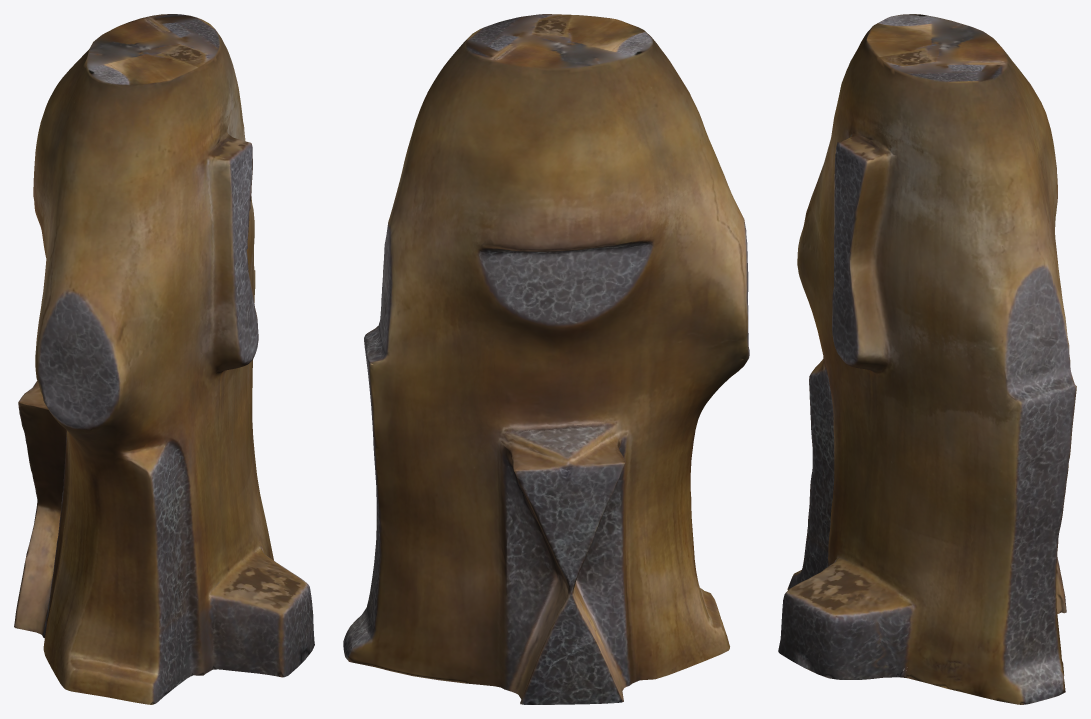
The model's file is shah-tirthankar.glb.
3 renders of one model, left to right at view 1: azimuth 30°, elevation 25°; view 2: azimuth 150°, elevation 25°; view 3: azimuth 270°, elevation 25°, orthographic. The views are drawn at different scales.
Parts seen in each view (by area): view 1: SculptureA_Low; view 2: SculptureA_Low; view 3: SculptureA_Low.
Boxes of the visible parts, x1=… form: SculptureA_Low: x1=14, y1=14, x2=314, y2=704; SculptureA_Low: x1=343, y1=14, x2=749, y2=704; SculptureA_Low: x1=778, y1=14, x2=1076, y2=704.
Bounding box in the file's own units: 21.35 × 38.18 × 17.91.
1 material, 1 textured.
